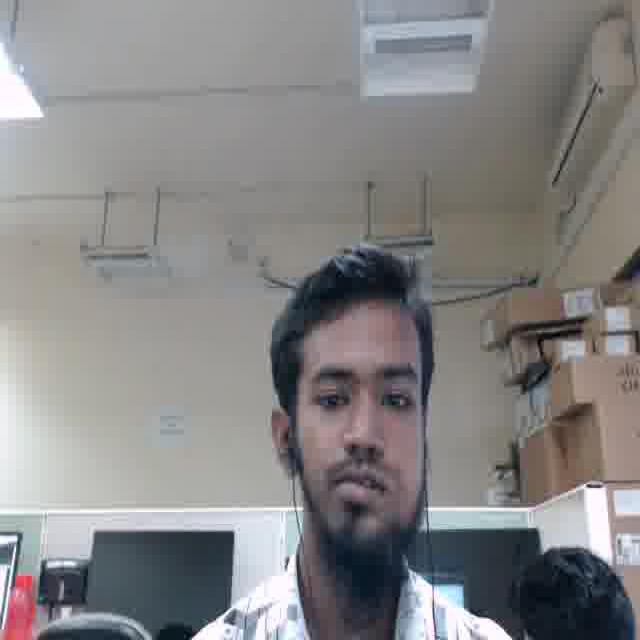Engaged: (295, 312, 427, 544)
